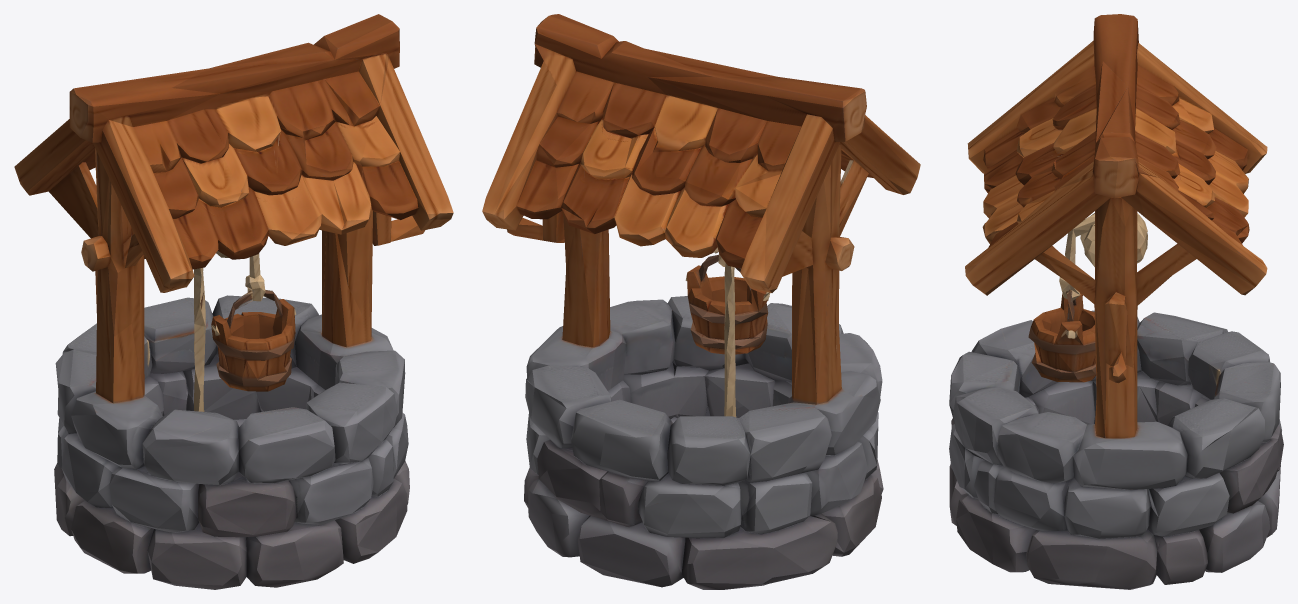
The picture shows the model from 3 angles, left to right: view 1: azimuth 30°, elevation 25°; view 2: azimuth 150°, elevation 25°; view 3: azimuth 270°, elevation 25°; orthographic projection. The views are drawn at different scales.
Bounding box in the file's own units: 1.51 × 1.9 × 1.31.
Materials: 1 (1 with a texture image).
